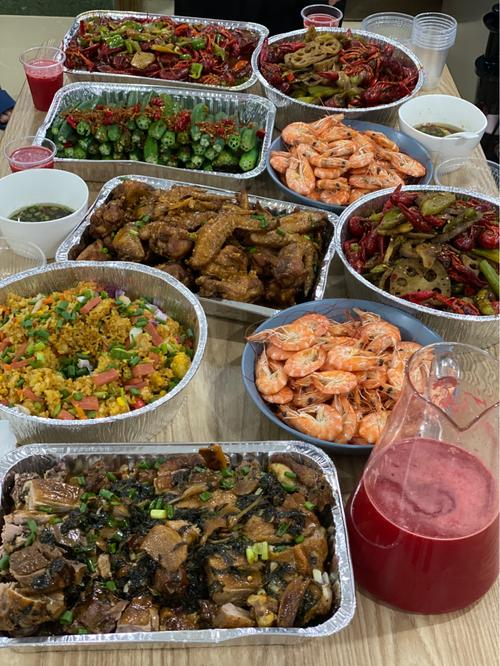food: (3, 431, 359, 647), (0, 250, 205, 445), (53, 171, 338, 310), (238, 292, 436, 454), (336, 169, 496, 338), (34, 77, 281, 177), (58, 4, 264, 95), (254, 18, 423, 124), (265, 114, 428, 210)
